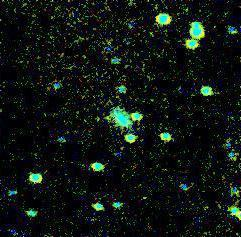star: (95, 104, 125, 134)
